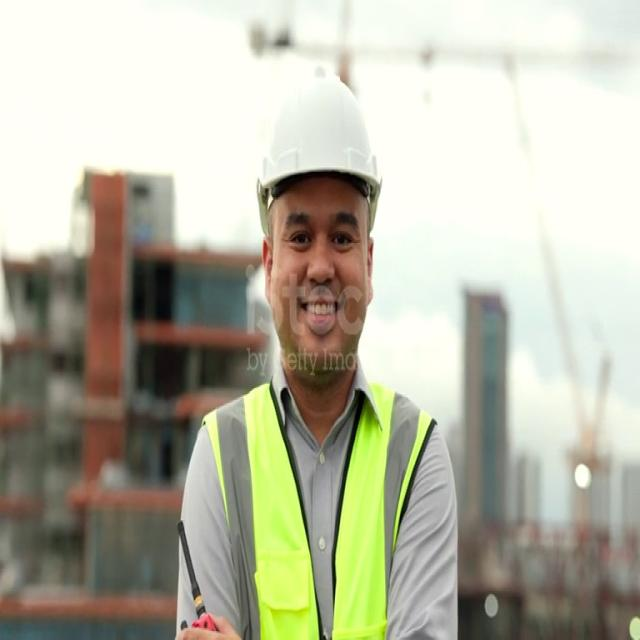capacete: (252, 49, 396, 226)
